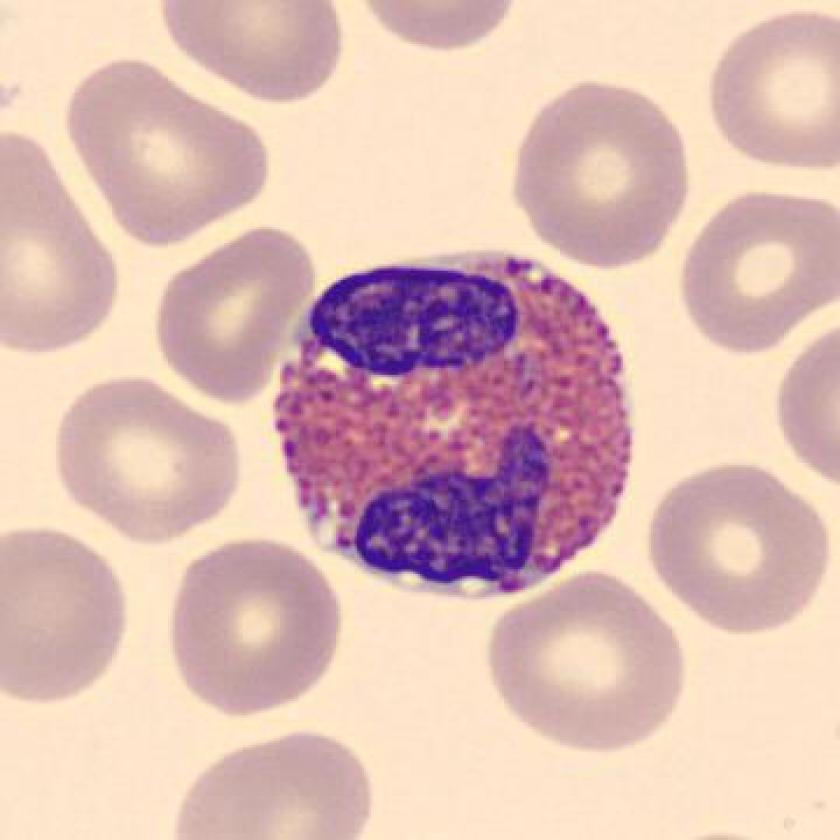eosinophil: (265, 242, 650, 607)
